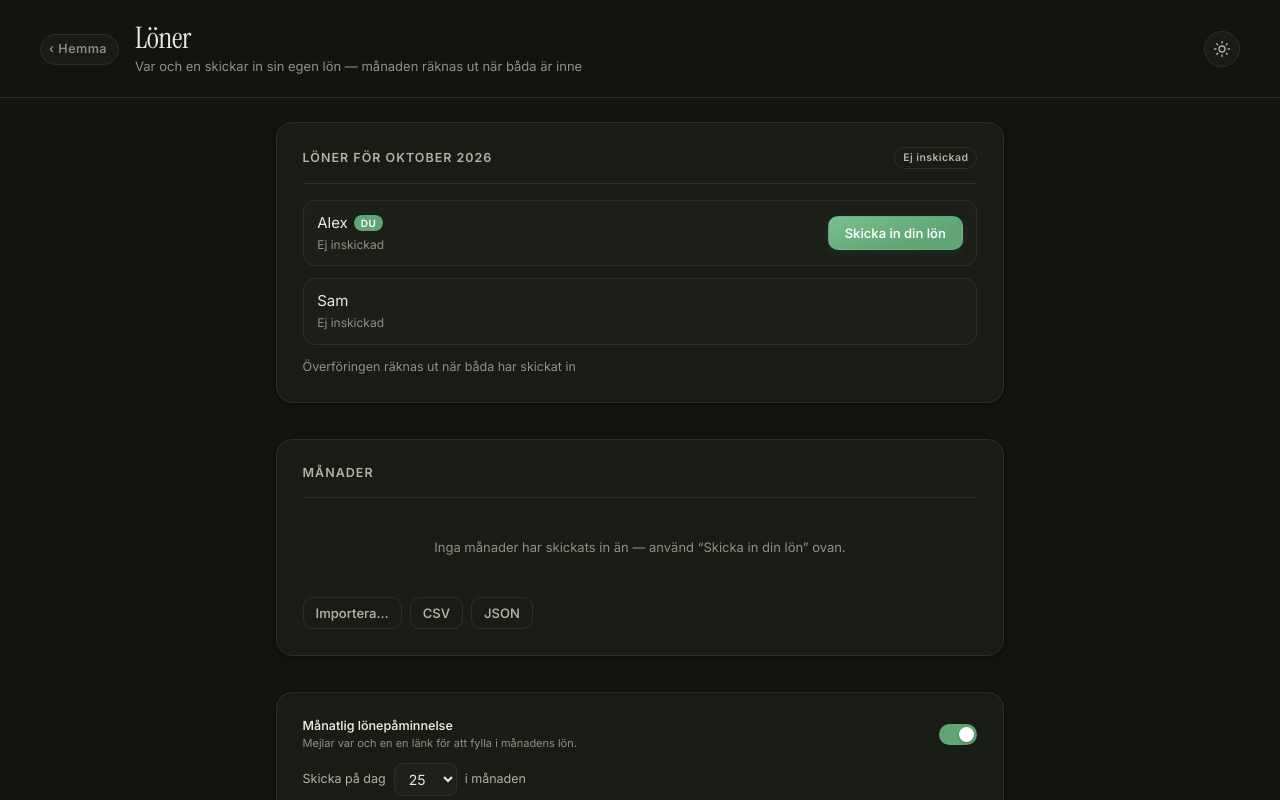
it: Submitting your own half › on a failed save keeps the dialog open with the inputs intact and shows the Swedish error toast
Click the button "Skicka in din lön" at (895,233), box [828,216,963,250]
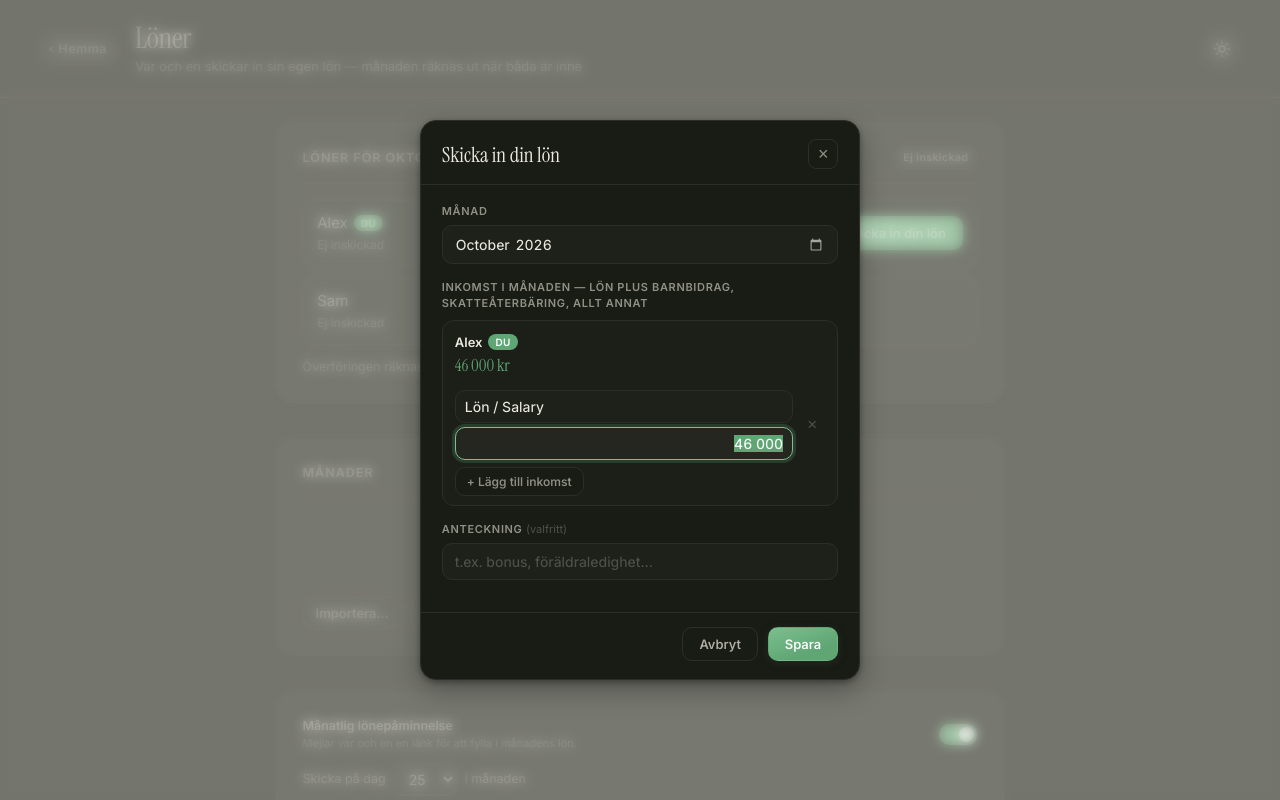
Replace the text in the field named "Belopp, kr" with "41000" at (624,443), box [455,426,793,460]
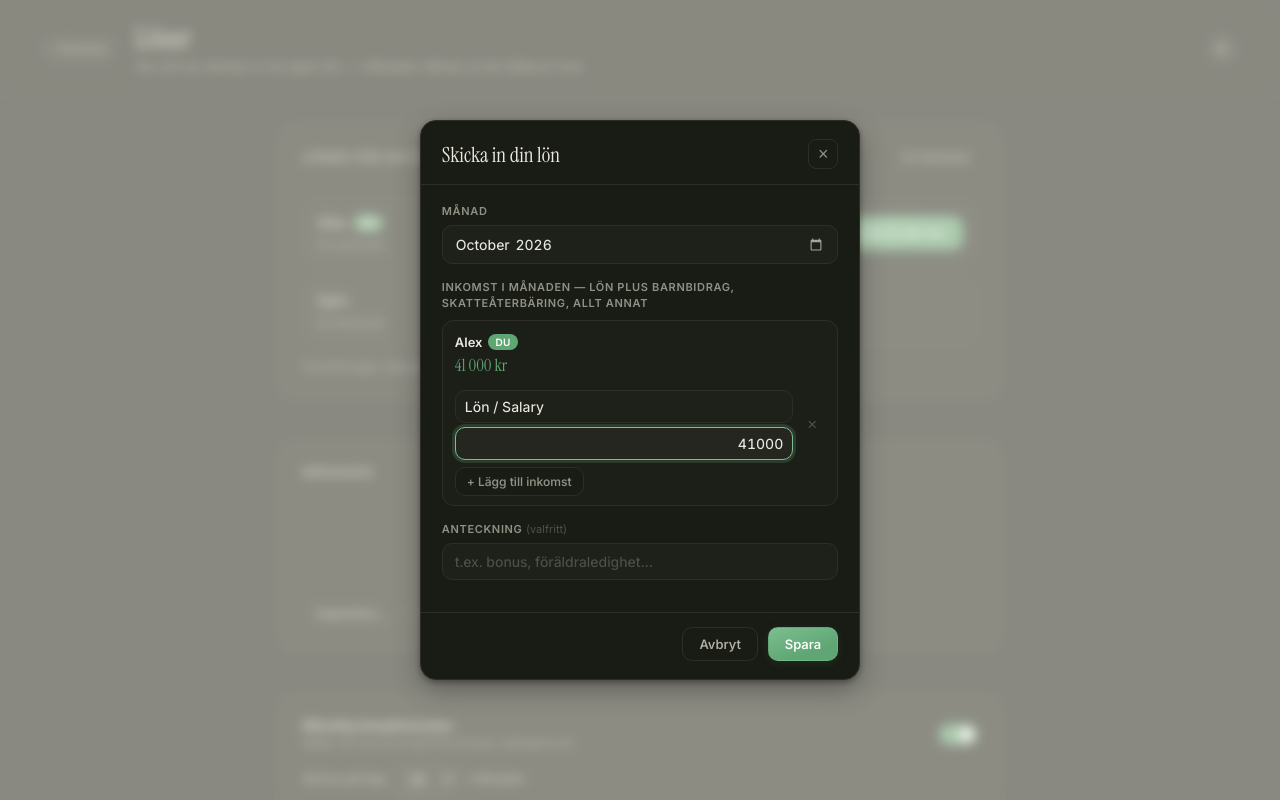
Click the button "Spara" at (803,644), box [768,627,838,661]
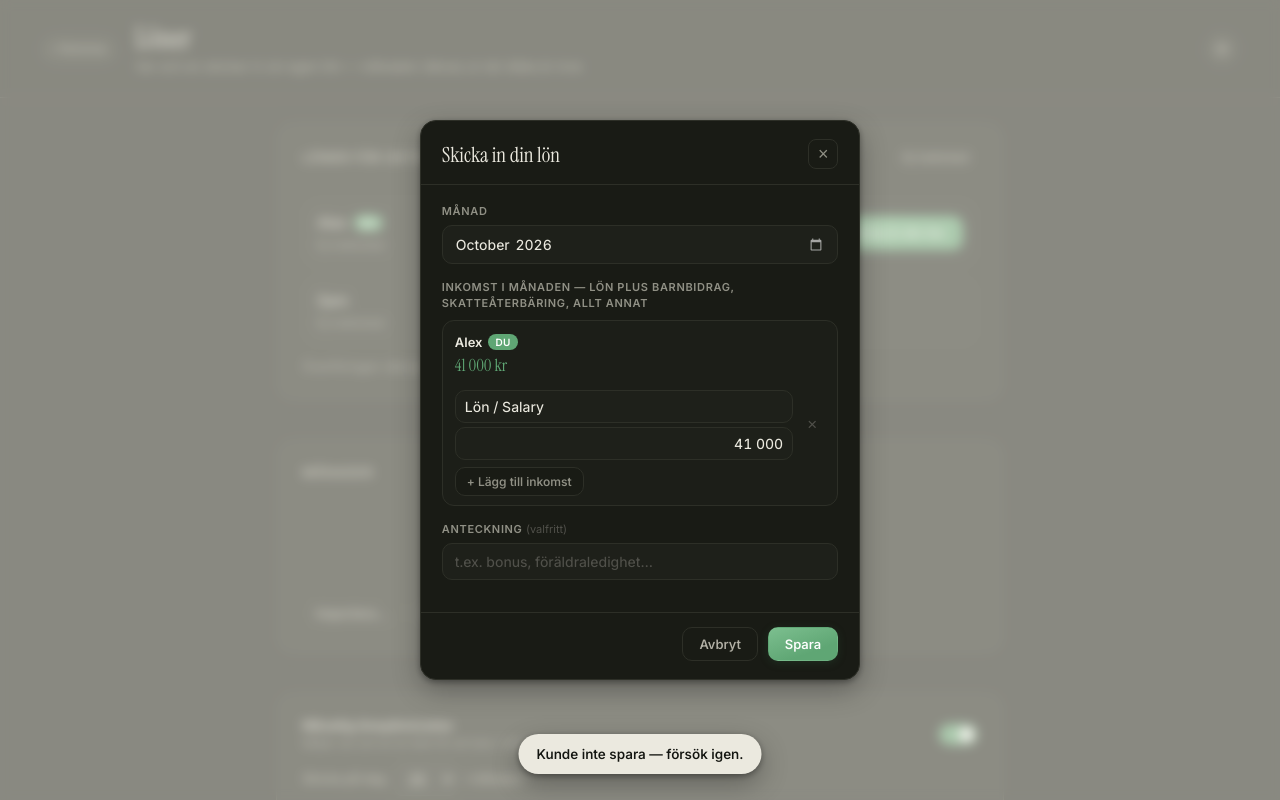
Now the button "Spara" is enabled, box [768,627,838,661]
Now the text "Kunde inte spara — försök igen." is shown, box [518,734,762,774]
Now the field named "Belopp, kr" holds "41 000", box [455,426,793,460]
